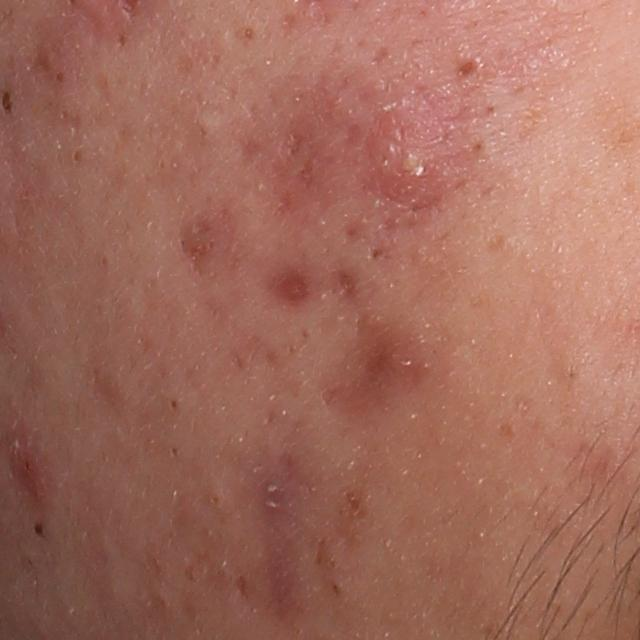atrophic_scar: (311, 319, 419, 419), (174, 202, 240, 278), (260, 256, 323, 309)
comedo: (452, 45, 487, 83), (366, 238, 392, 267), (196, 112, 222, 137), (238, 19, 262, 43), (209, 487, 229, 511), (164, 440, 188, 459), (66, 144, 86, 166), (167, 391, 182, 413)
papule: (9, 445, 54, 494)
